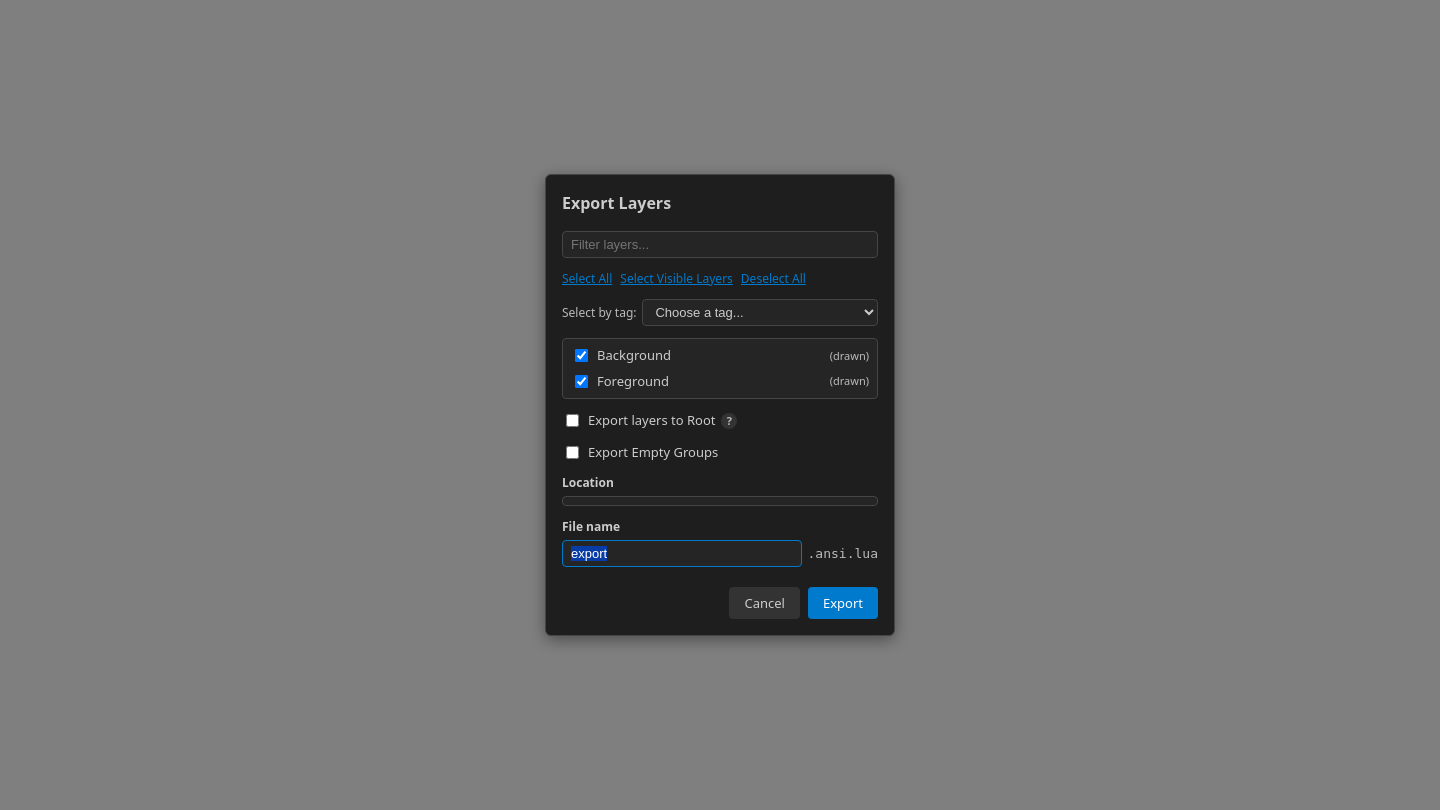
ExportLayersDialog — tags, groups, dedup › Select by tag › clicking a pill removes the tag and deselects its layers
The image size is (1440, 810).
Select "sky" in the dropdown with test id "export-tag-select": (760, 312) [642,299,878,326]
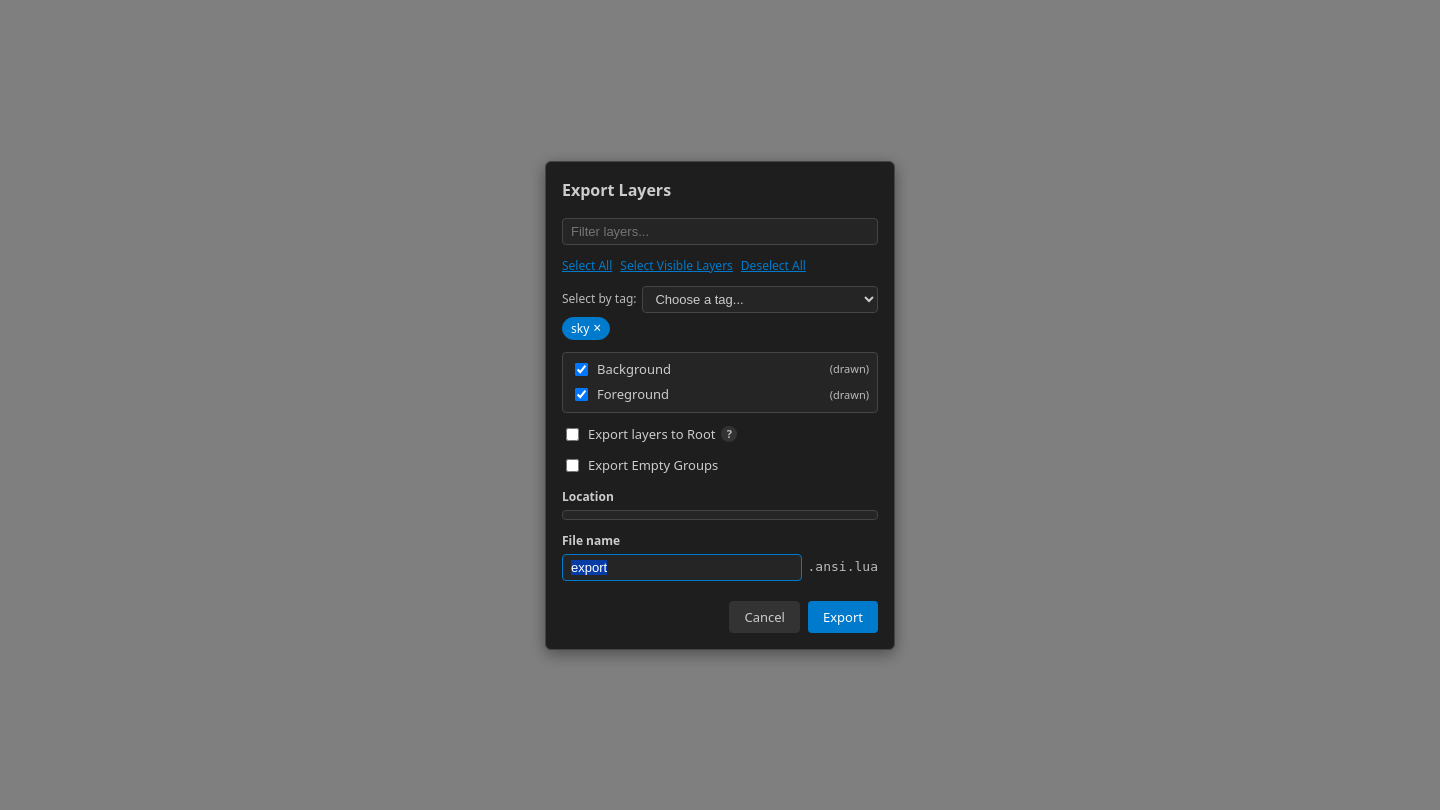
Select "ground" in the dropdown with test id "export-tag-select": (760, 299) [642,286,878,312]
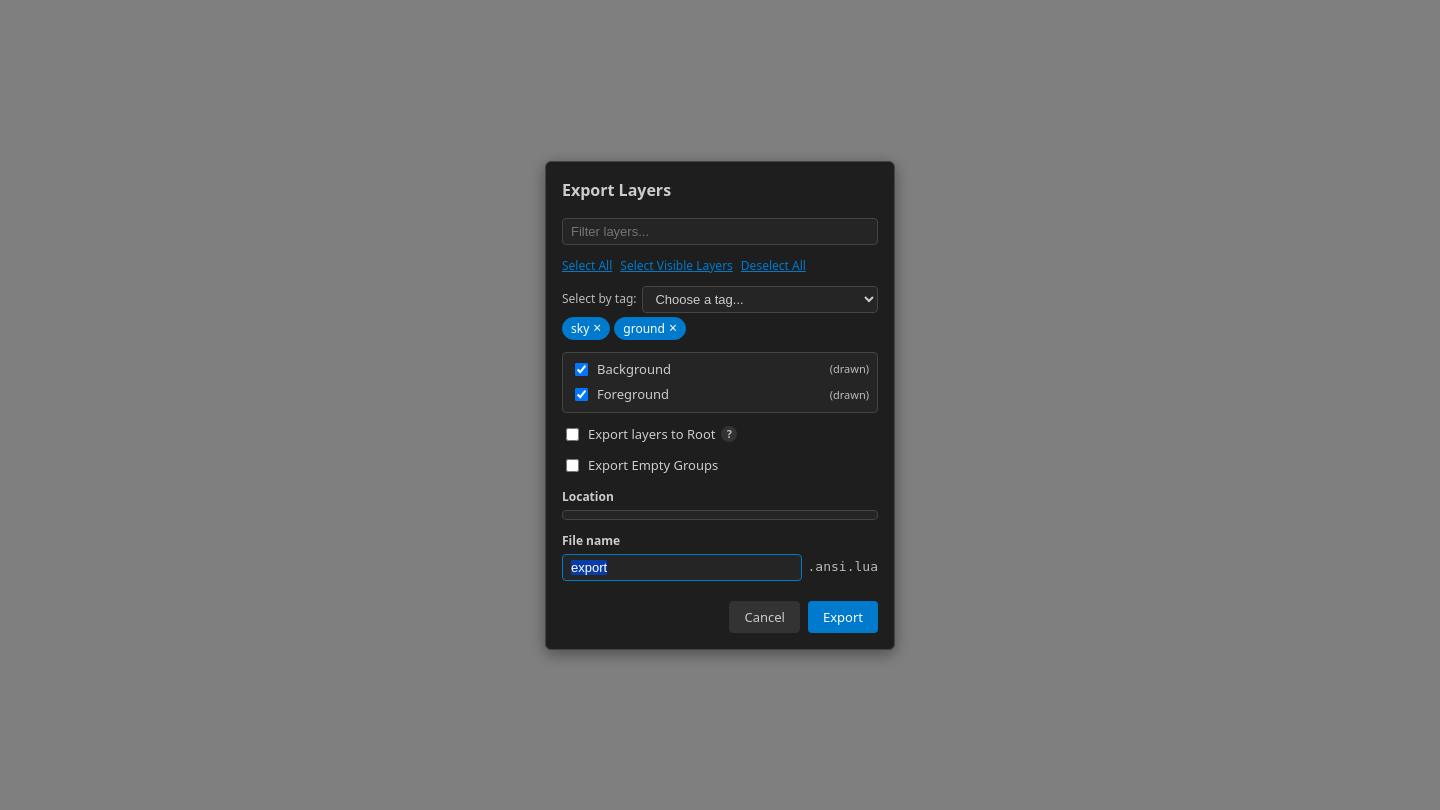
Click the button with test id "export-pill-sky": click(586, 328) [562,316,610,340]
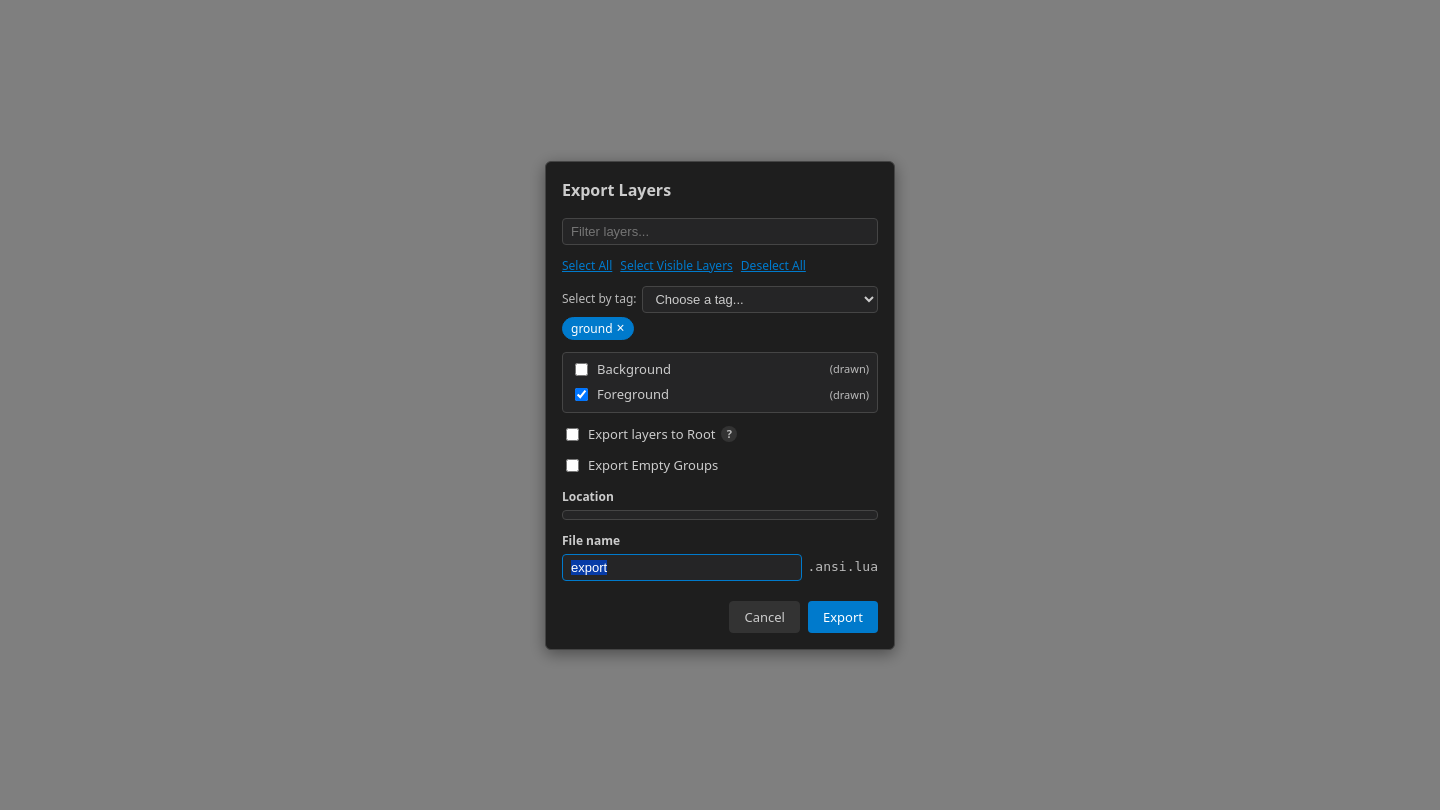
Result: the button with test id "export-pill-ground" is shown at [562,316,634,340]
Result: the button with test id "export-pill-sky" is gone
Result: the checkbox with test id "export-check-bg-1" is not checked at [575,363,588,376]
